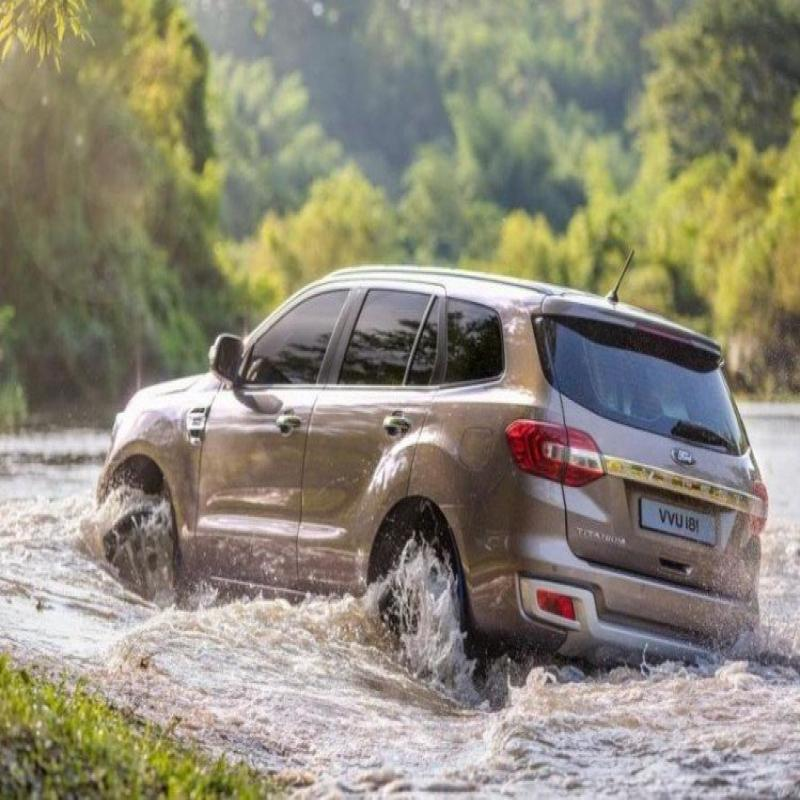car: (95, 249, 752, 693)
